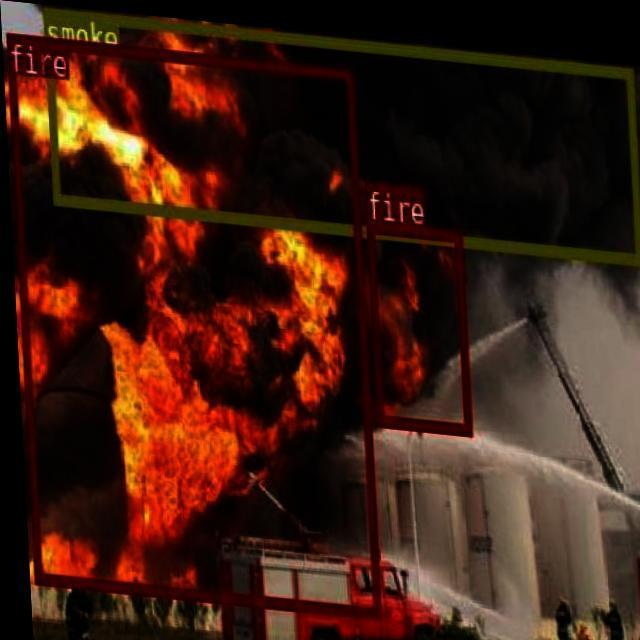Fire: (0, 0, 640, 370), (1, 22, 371, 590)
Smoke: (97, 74, 626, 242)
